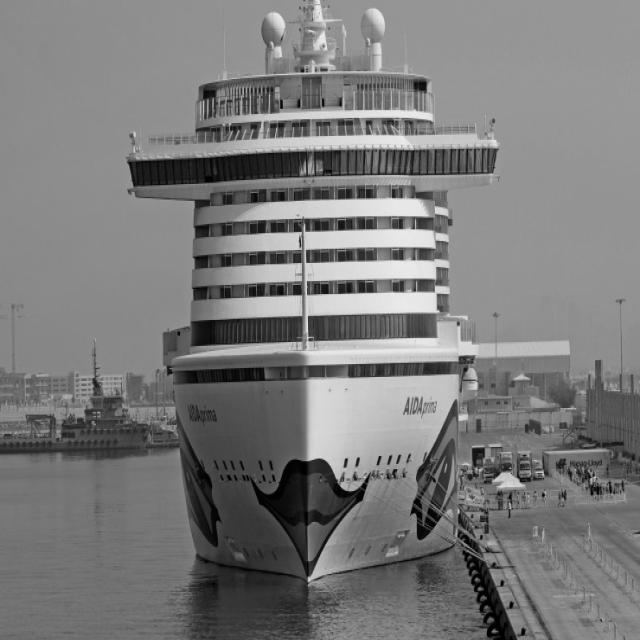cruises: (112, 1, 506, 593)
